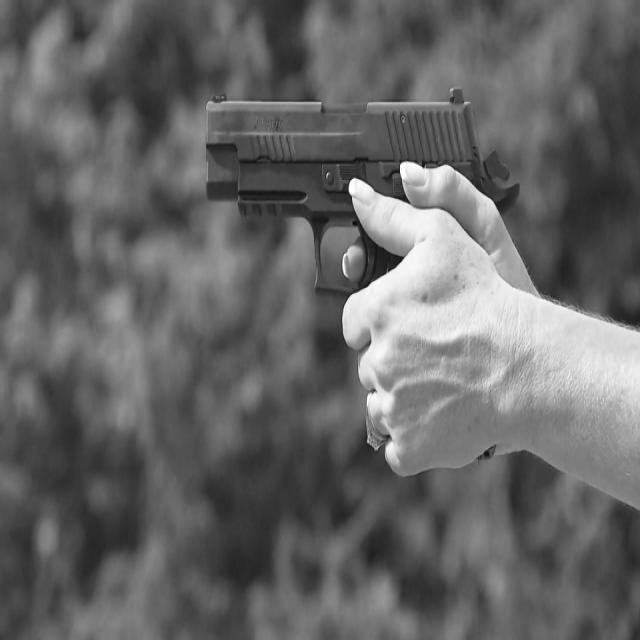Hand-Gun: (192, 80, 540, 387)
